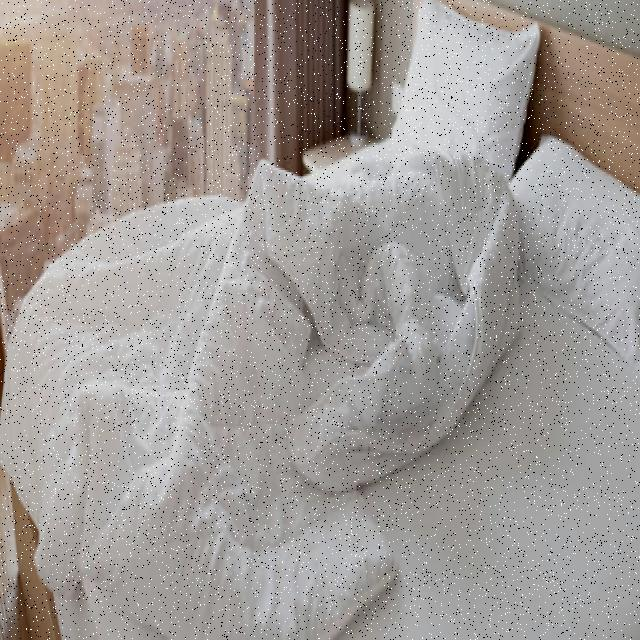bed: (32, 57, 638, 640)
